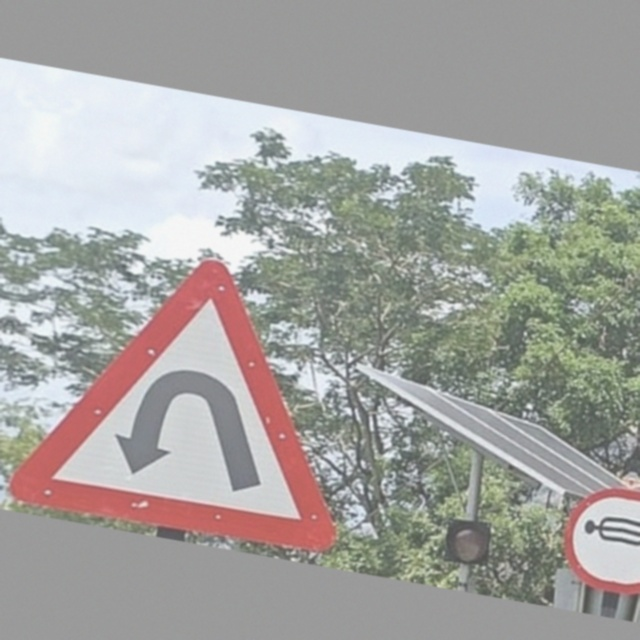Left_Hair_Pin_Bend: (8, 232, 388, 558)
